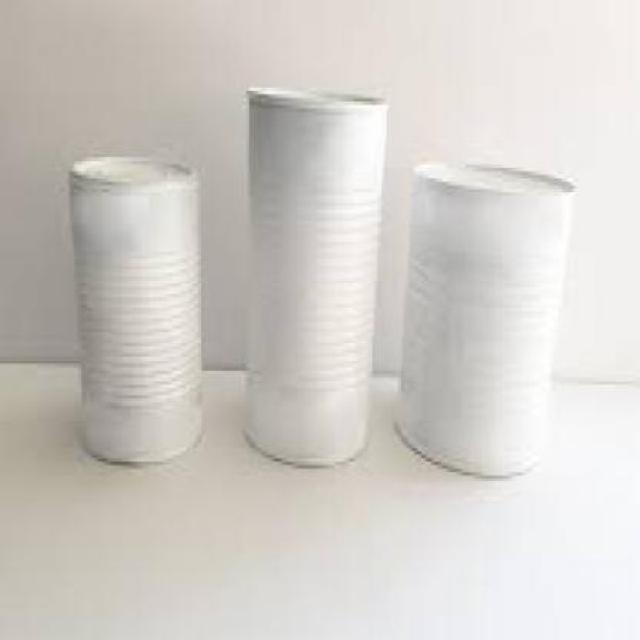METAL: (391, 157, 572, 486), (242, 80, 386, 469), (68, 154, 200, 469)
